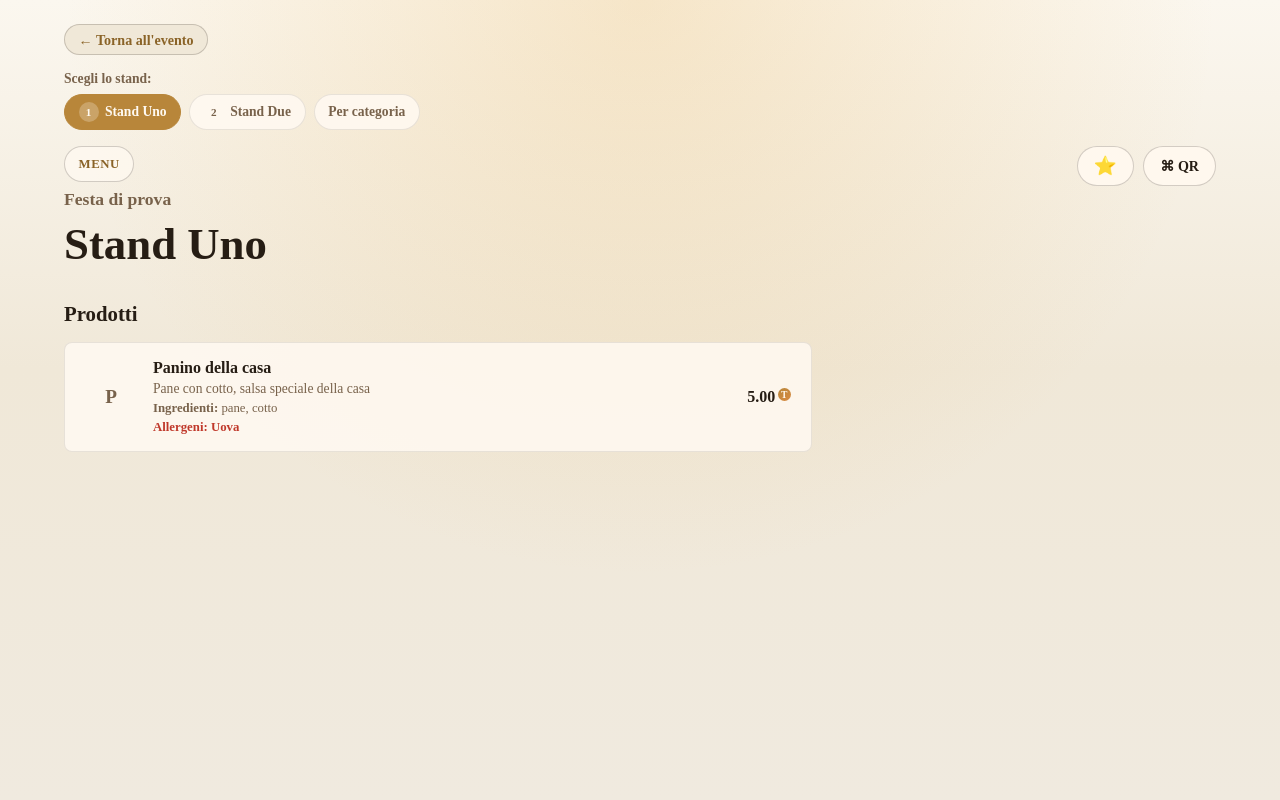
it: menu stand — allergeni in elenco › resta visibile anche nel modale prodotto
Click the text "Panino della casa". click: (212, 367)
box: [153,359,271,376]
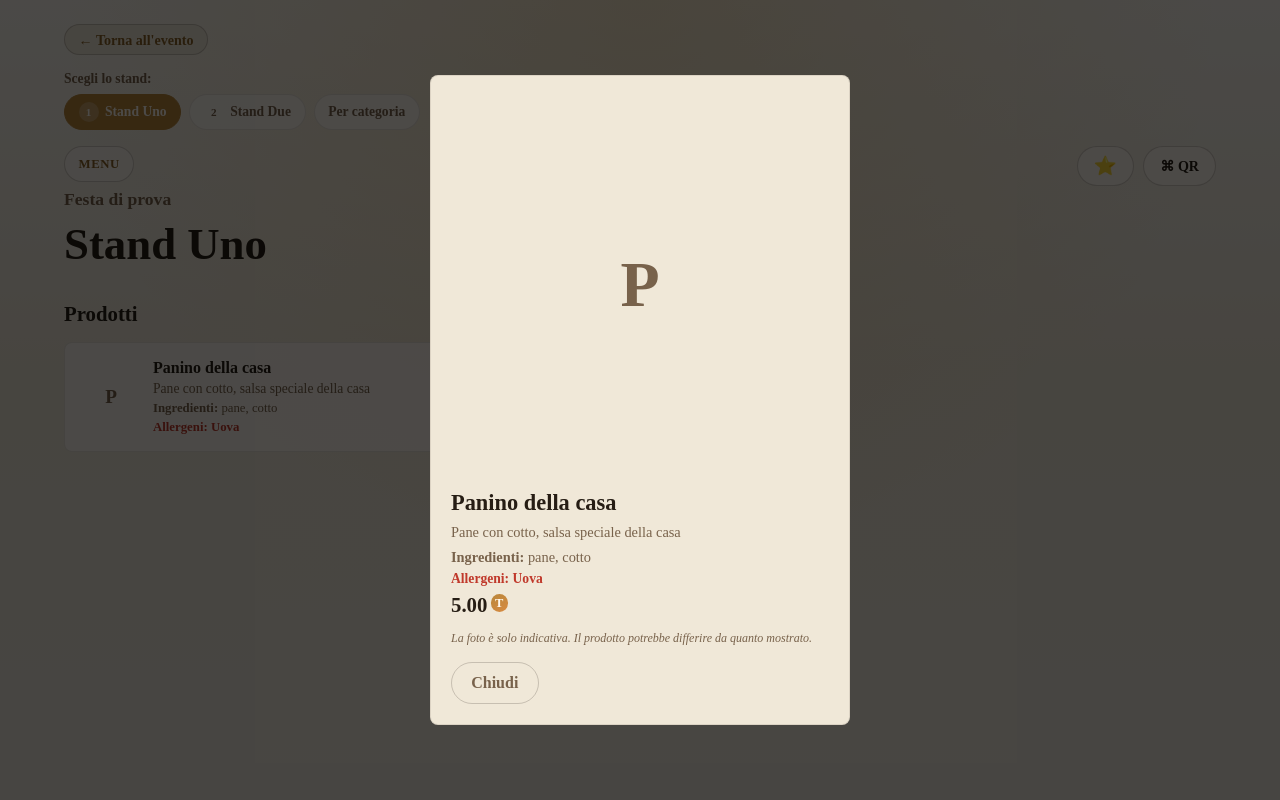
expect the dialog shows "Allergeni: Uova": met, box [430,75,850,725]
